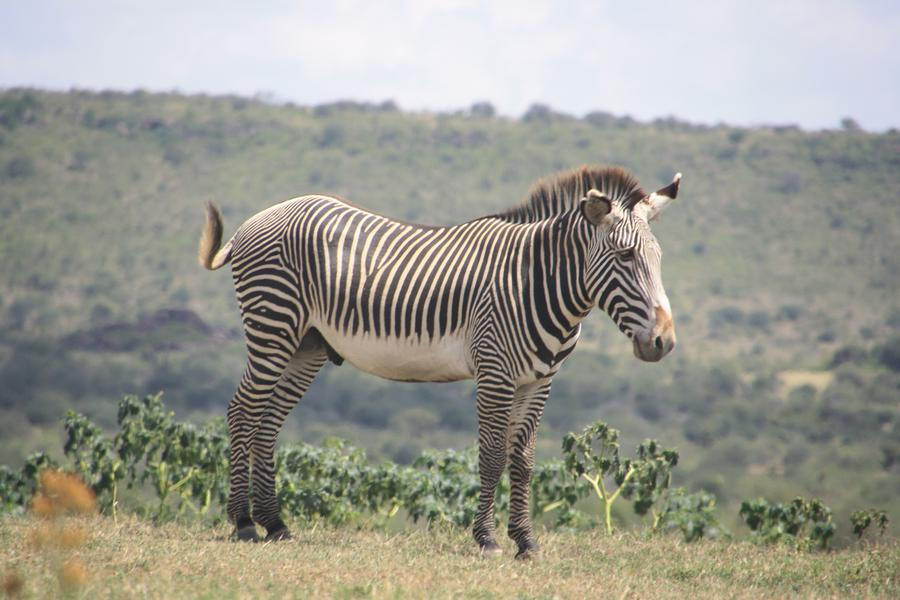zebra_grevys: (237, 191, 528, 367)
